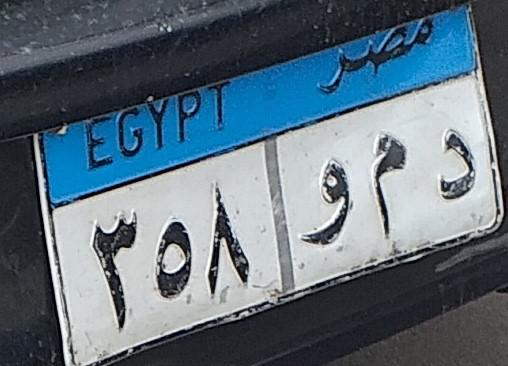3: (98, 194, 137, 328)
5: (144, 208, 193, 315)
8: (202, 171, 252, 302)
د: (416, 87, 479, 216)
م: (369, 119, 418, 231)
و: (299, 133, 353, 271)
